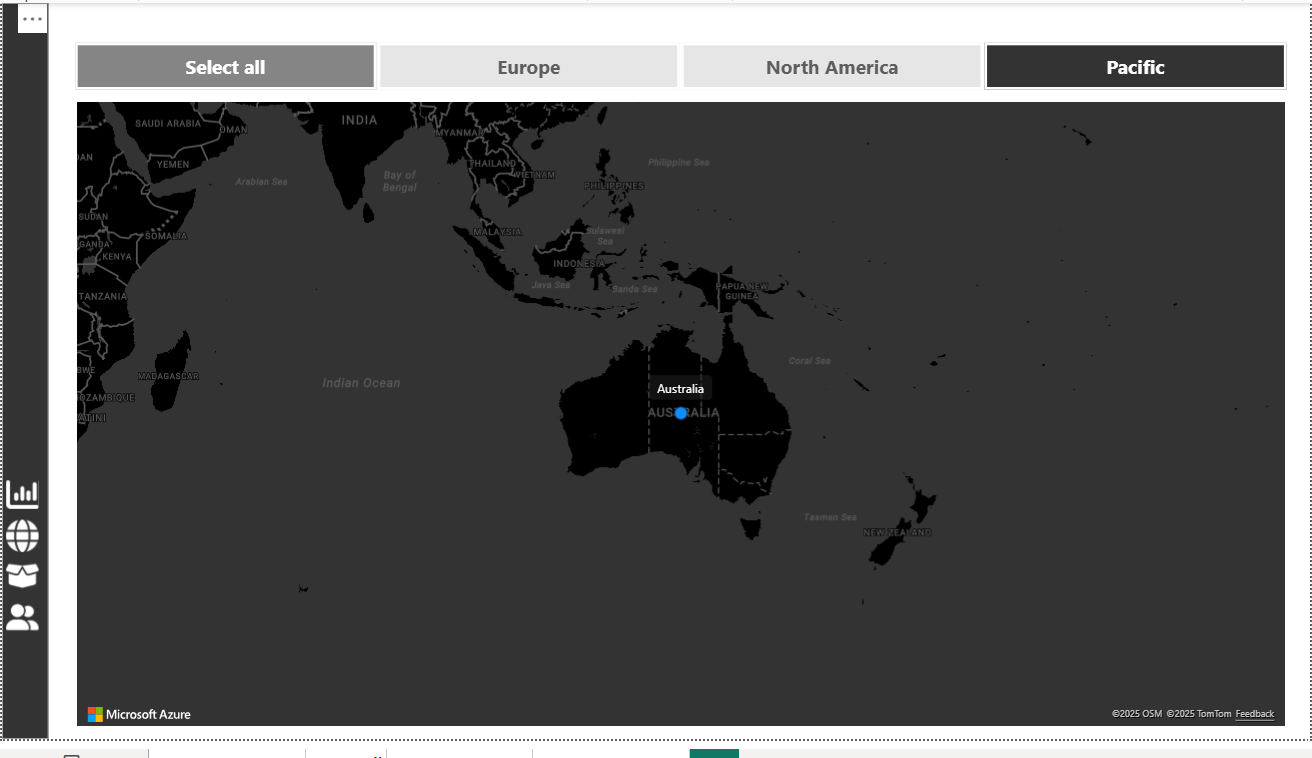

The dashboard page shown, as its layout file describes it:
{"tool":"powerbi","page":{"name":"Map","canvas":[1280,720],"ordinal":1},"visuals":[{"type":"shape","box":[0,0,45,720],"z":0},{"type":"azureMap","fields":{"Category":["Territory Lookup.Country"],"Size":["Measure Table.Total Orders"]},"box":[68.5,91.7,1191,620],"z":1000},{"type":"actionButton","box":[0,460.8,45.5,39.8],"z":1000,"group":"g1"},{"type":"slicer","fields":{"Values":["Territory Lookup.Continent"]},"box":[45.2,31.8,1235.1,59.9],"z":2000},{"type":"actionButton","box":[0,540.4,45.5,39.8],"z":2000,"group":"g1"},{"type":"group","id":"g1","title":"Nav bar","box":[0,460.8,45.5,159.3],"z":3000},{"type":"actionButton","box":[0,580.3,45.5,39.8],"z":3000,"group":"g1"},{"type":"actionButton","box":[0,500.6,45.5,39.8],"z":4000,"group":"g1"}]}

Visuals, with their boxes in screenshot pixels (x1, y1, x2, y2):
shape: 0 7 45 735
azureMap - Territory Lookup.Country x Measure Table.Total Orders: 69 100 1273 726
actionButton: 0 473 46 513
slicer - Territory Lookup.Continent: 46 39 1294 100
actionButton: 0 553 46 593
"Nav bar" group: 0 473 46 634
actionButton: 0 593 46 634
actionButton: 0 513 46 553
